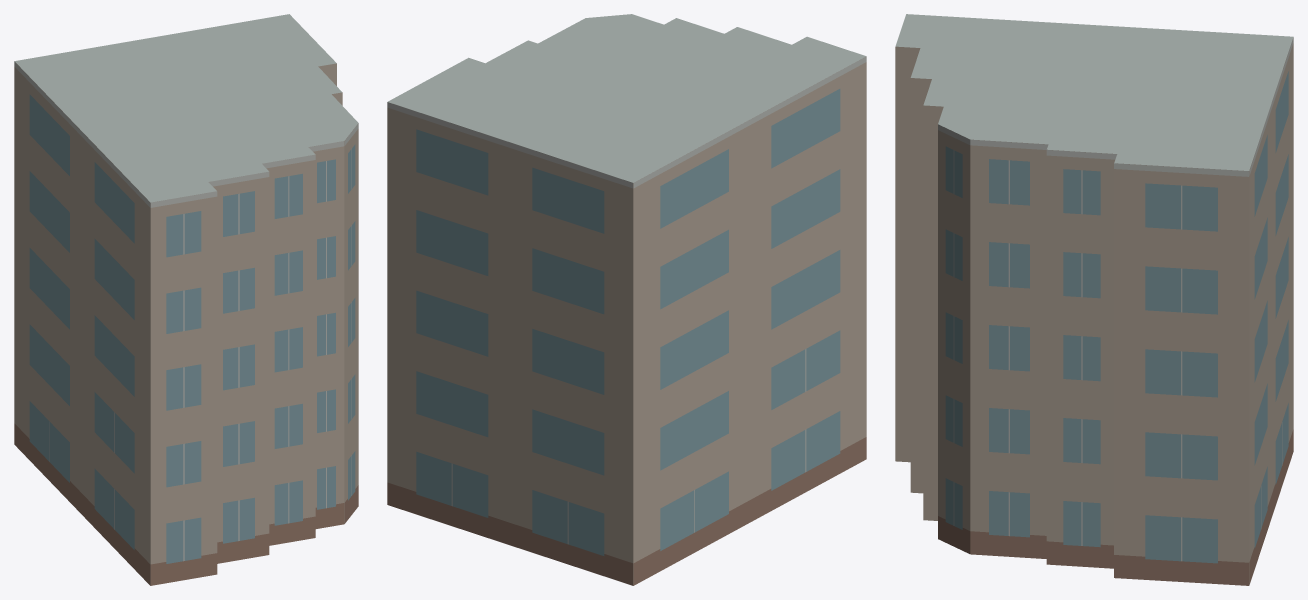
The model's file is survey-upis-33014015.glb.
3 views of the same model, side by side, from view 1: azimuth 30°, elevation 25°; view 2: azimuth 150°, elevation 25°; view 3: azimuth 270°, elevation 25° (orthographic). The views are drawn at different scales.
Parts seen in each view (by area): view 1: survey-upis-33014015.tmp; view 2: survey-upis-33014015.tmp; view 3: survey-upis-33014015.tmp.
Part boxes in pixels (x1=…): survey-upis-33014015.tmp: x1=14, y1=14, x2=358, y2=585; survey-upis-33014015.tmp: x1=387, y1=14, x2=866, y2=585; survey-upis-33014015.tmp: x1=895, y1=14, x2=1293, y2=585.
Size of the model in its own units: 14.14 by 17.4 by 15.15.
